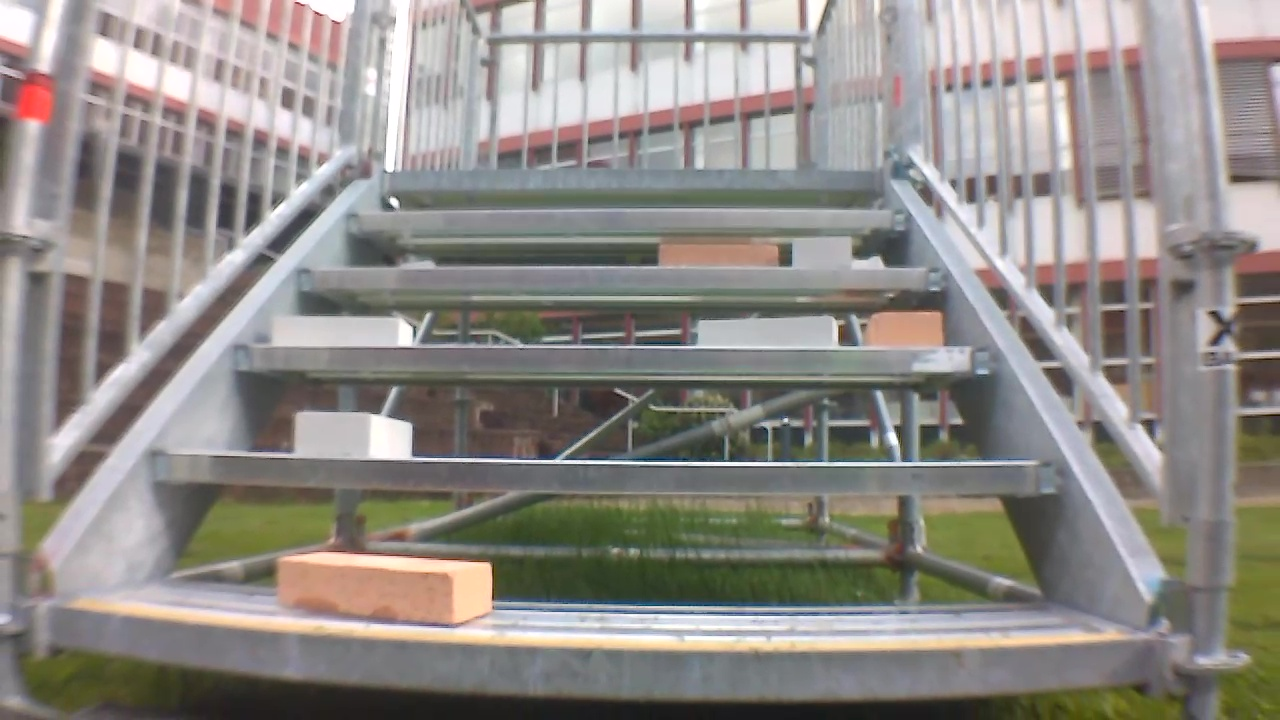brick: (277, 554, 490, 623), (296, 410, 411, 457), (273, 316, 411, 346), (700, 317, 838, 347), (659, 241, 778, 266), (868, 313, 941, 346), (793, 237, 852, 267)
edge: (54, 607, 1145, 698), (152, 451, 1064, 491), (236, 345, 993, 373), (301, 266, 943, 289), (346, 209, 907, 230), (386, 167, 878, 189)
stairs: (3, 6, 1252, 718)
steps: (34, 162, 1150, 706)
